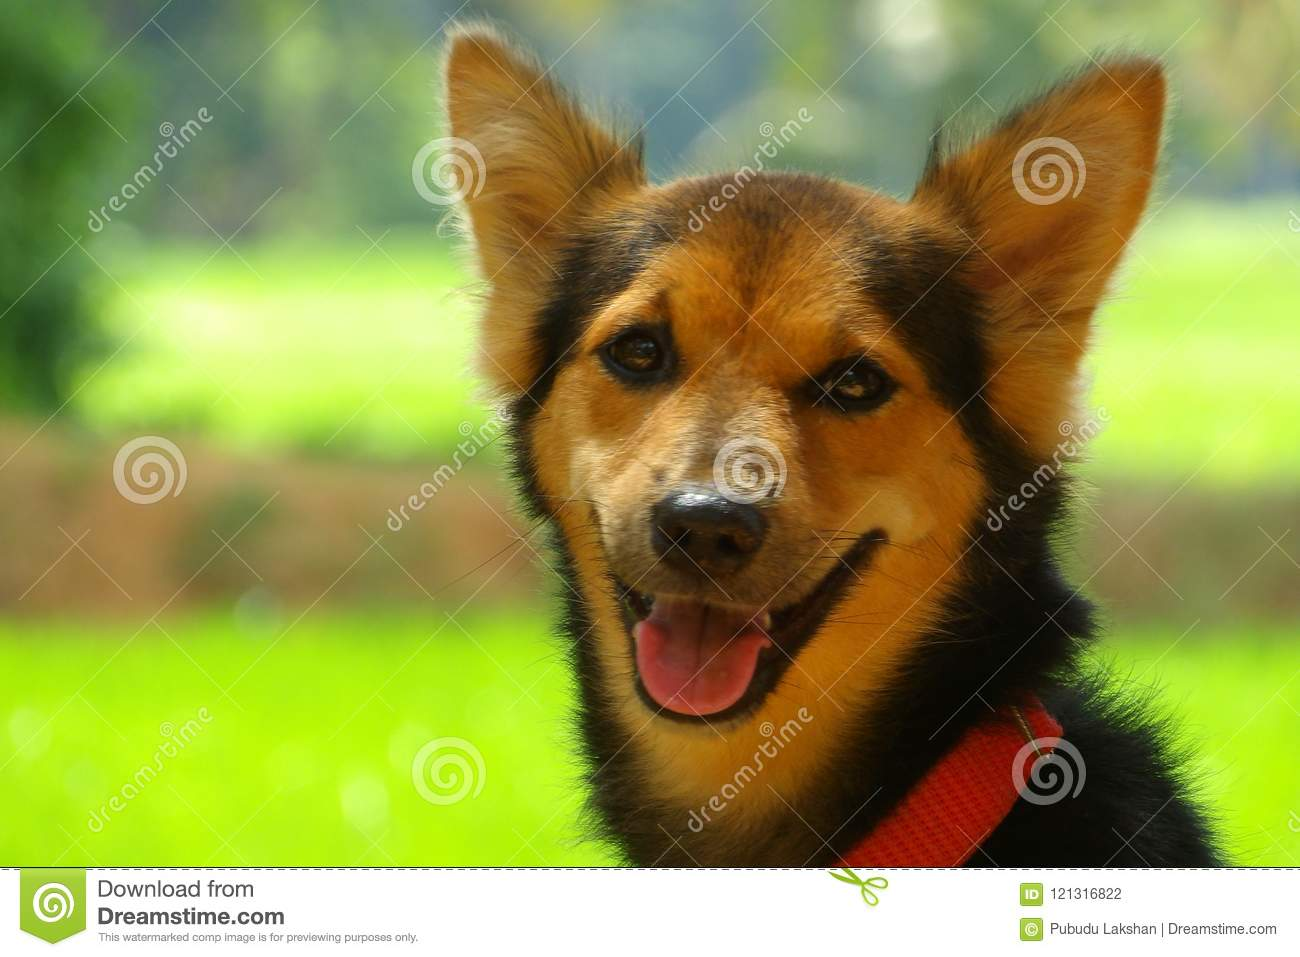Dog: (425, 11, 1244, 859)
